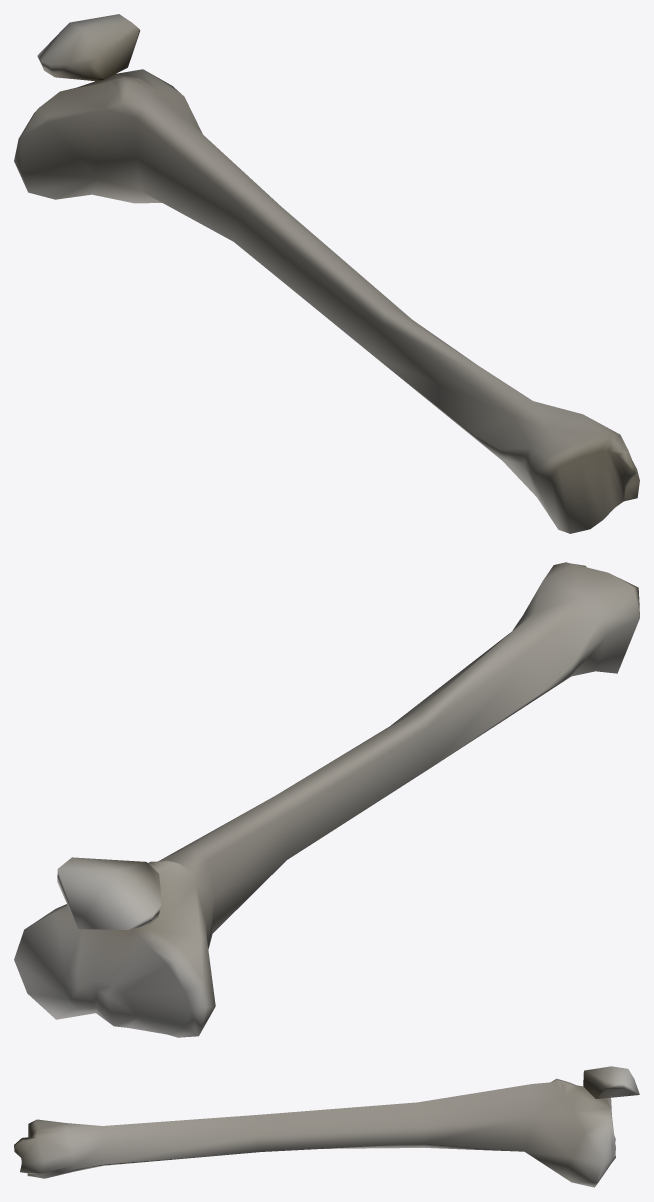
The model's file is animals-animalparts-skeleton_v12.glb.
3 renders of one model, top to bottom at view 1: azimuth 30°, elevation 25°; view 2: azimuth 150°, elevation 25°; view 3: azimuth 270°, elevation 25°, orthographic. The views are drawn at different scales.
Parts seen in each view (by area): view 1: Skeleton_v12; view 2: Skeleton_v12; view 3: Skeleton_v12.
Boxes of the visible parts, box(x1,y1,x2,y2) form: Skeleton_v12: box(14, 14, 639, 533); Skeleton_v12: box(14, 562, 639, 1037); Skeleton_v12: box(14, 1066, 639, 1187).
Size of the model in its own units: 0.0905 by 0.081 by 0.4528.
